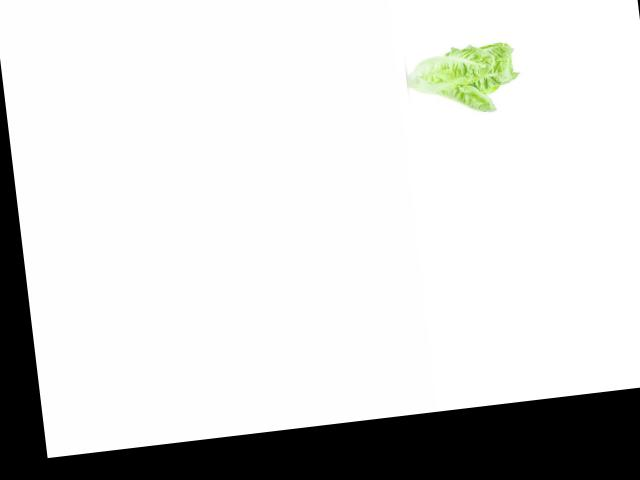lettuce: (407, 35, 524, 121)
